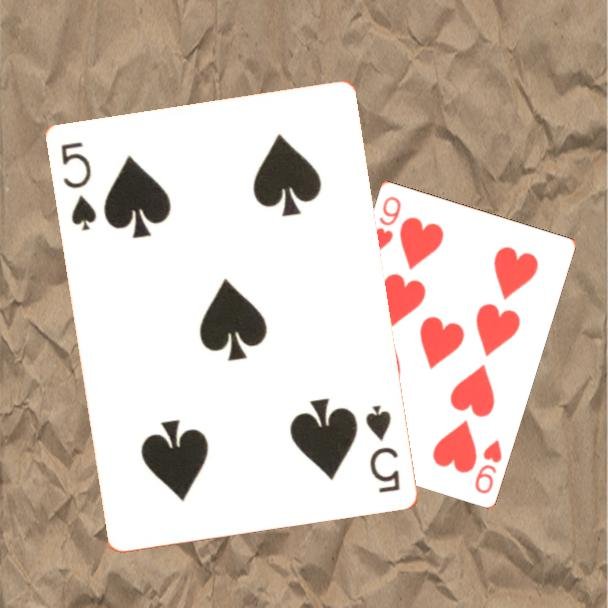h09: (371, 192, 404, 254), (471, 435, 504, 496)
s05: (57, 138, 99, 233), (361, 401, 403, 495)
